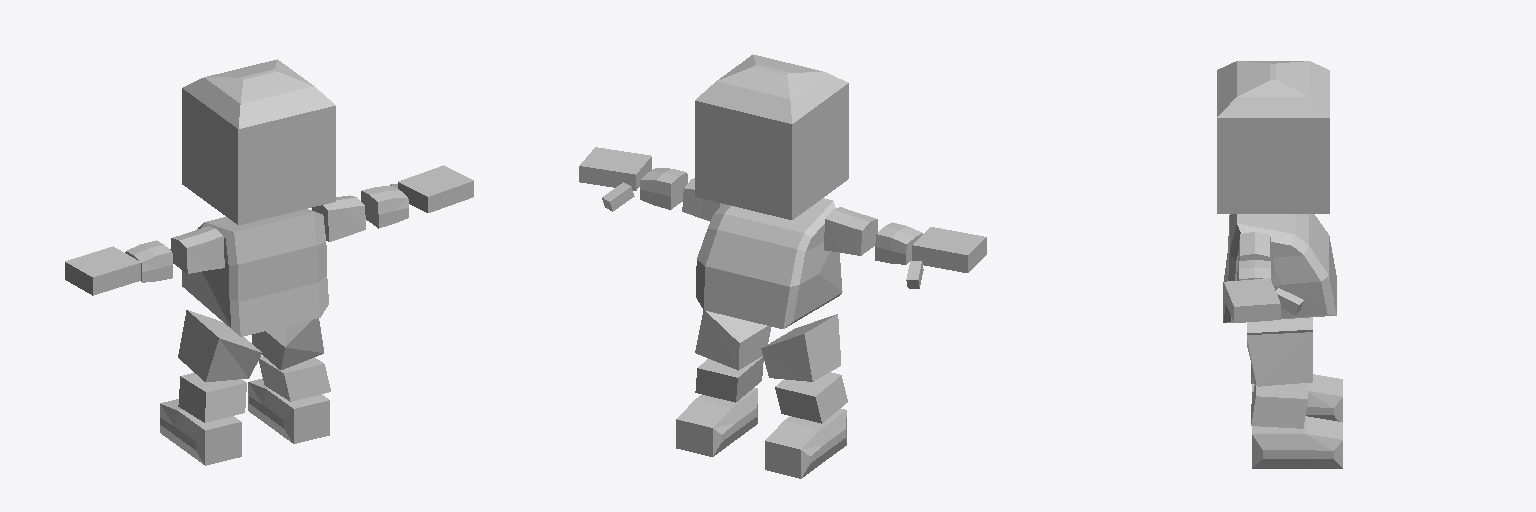
Rendered from Platformer-tri.obj.
3 views of the same model, side by side, from view 1: azimuth 30°, elevation 25°; view 2: azimuth 150°, elevation 25°; view 3: azimuth 270°, elevation 25° (orthographic).
Parts seen in each view (by area): view 1: Platformer; view 2: Platformer; view 3: Platformer.
Boxes of the visible parts, x1=… form: Platformer: x1=65, y1=59, x2=473, y2=465; Platformer: x1=579, y1=54, x2=986, y2=478; Platformer: x1=1217, y1=61, x2=1342, y2=468.
Size of the model in its own units: 2.61 by 2.35 by 0.7313.